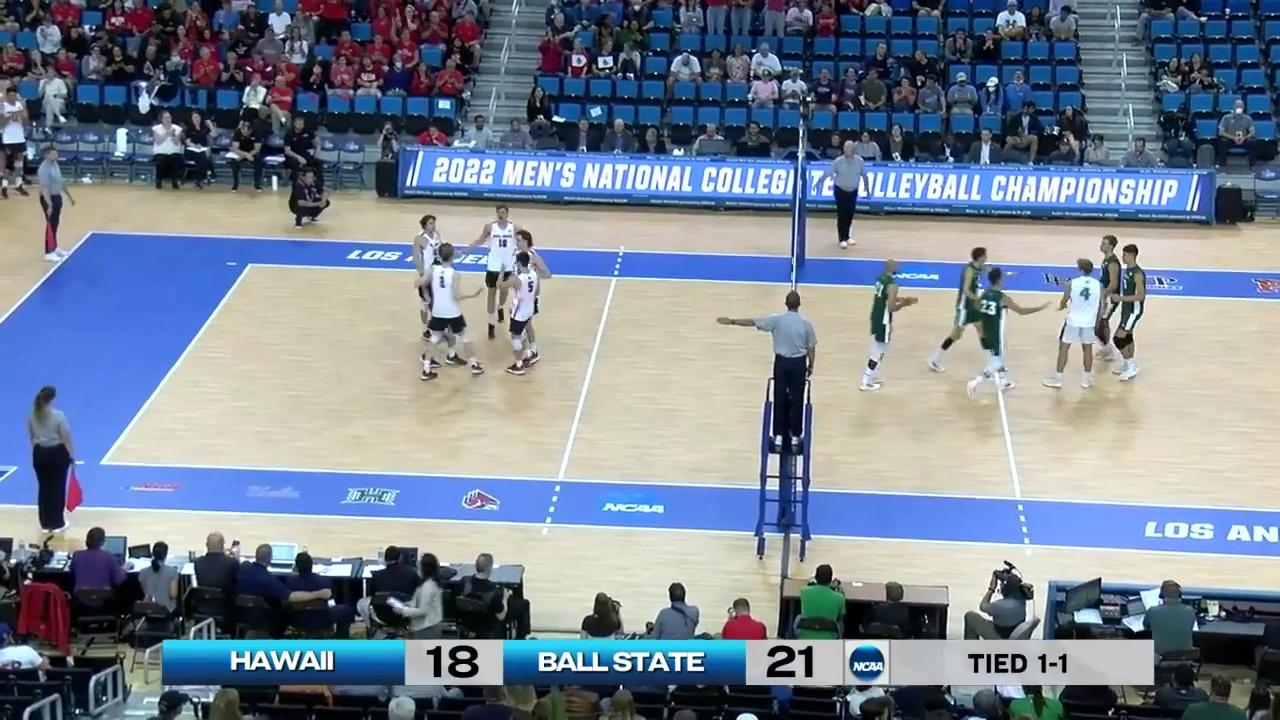player: (934, 246, 998, 378), (963, 271, 1023, 399), (422, 243, 479, 377), (1047, 259, 1106, 387), (472, 203, 525, 337), (860, 262, 910, 392), (509, 231, 549, 359), (408, 214, 447, 342), (426, 249, 468, 366), (1116, 245, 1149, 382), (502, 256, 537, 375), (1092, 235, 1123, 365)
refree: (760, 292, 816, 443), (26, 386, 76, 530), (34, 149, 74, 261), (829, 139, 866, 247)
